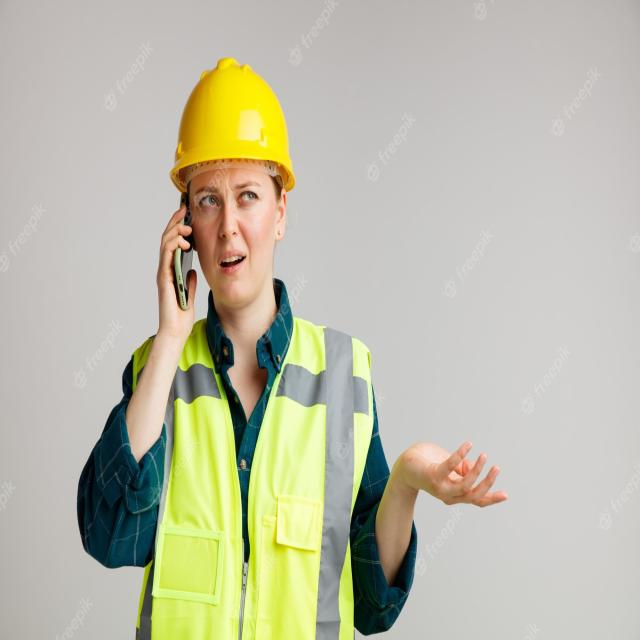helmet: (172, 56, 294, 203)
no-goggles: (176, 180, 287, 236)
vest: (124, 301, 378, 640)
